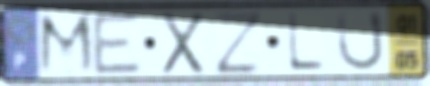E: (90, 10, 145, 78)
L: (286, 11, 328, 73)
M: (36, 12, 99, 77)
U: (335, 9, 387, 73)
X: (159, 9, 207, 77)
Z: (212, 9, 265, 76)
